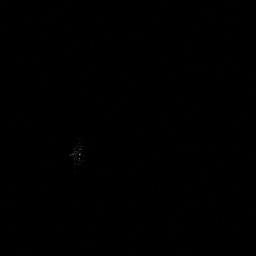ship: (67, 142, 86, 166)
